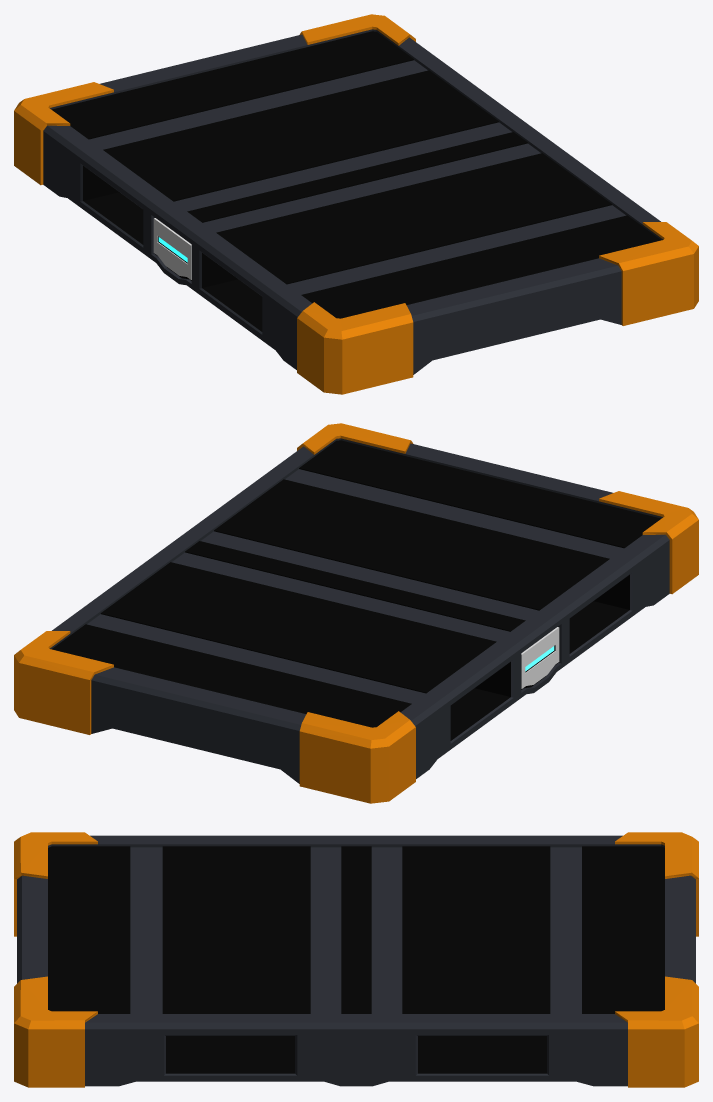
The model's file is SM_Pallet.fbx.
3 views of the same model, one above another, from view 1: azimuth 30°, elevation 25°; view 2: azimuth 150°, elevation 25°; view 3: azimuth 270°, elevation 25° (orthographic). The views are drawn at different scales.
Parts seen in each view (by area): view 1: SM_Pallet; view 2: SM_Pallet; view 3: SM_Pallet.
Part boxes in pixels (x1,y1,x2,y2): SM_Pallet: [14, 14, 698, 394]; SM_Pallet: [14, 423, 698, 803]; SM_Pallet: [14, 832, 698, 1087].
Bounding box in the file's own units: 81.08 × 12.55 × 121.
